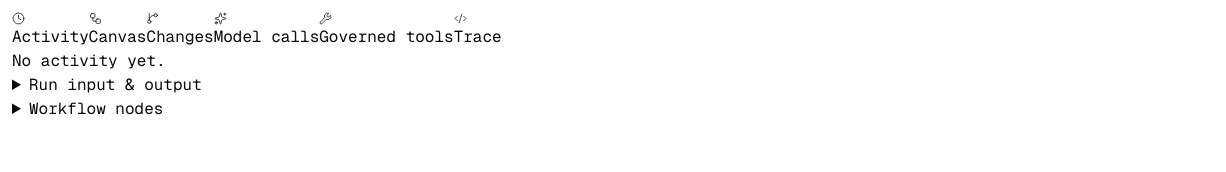
Test case: RunDetailView — run-view tabs › shows the Changes placeholder, and the Trace tab renders the raw event ledger
Click the tab "Changes" at (180, 30), box [146,12,214,49]
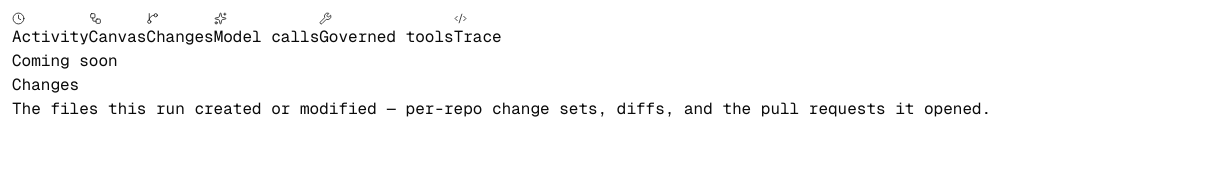
Result: the text "Coming soon" is shown at [12,50,118,71]
Click the tab "Trace" at (478, 30), box [454,12,502,49]
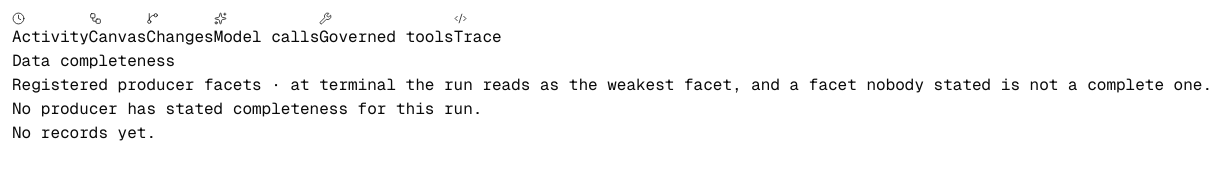
Result: the text "Coming soon" is gone
Result: the text "No records yet." is shown at [12,122,156,143]
